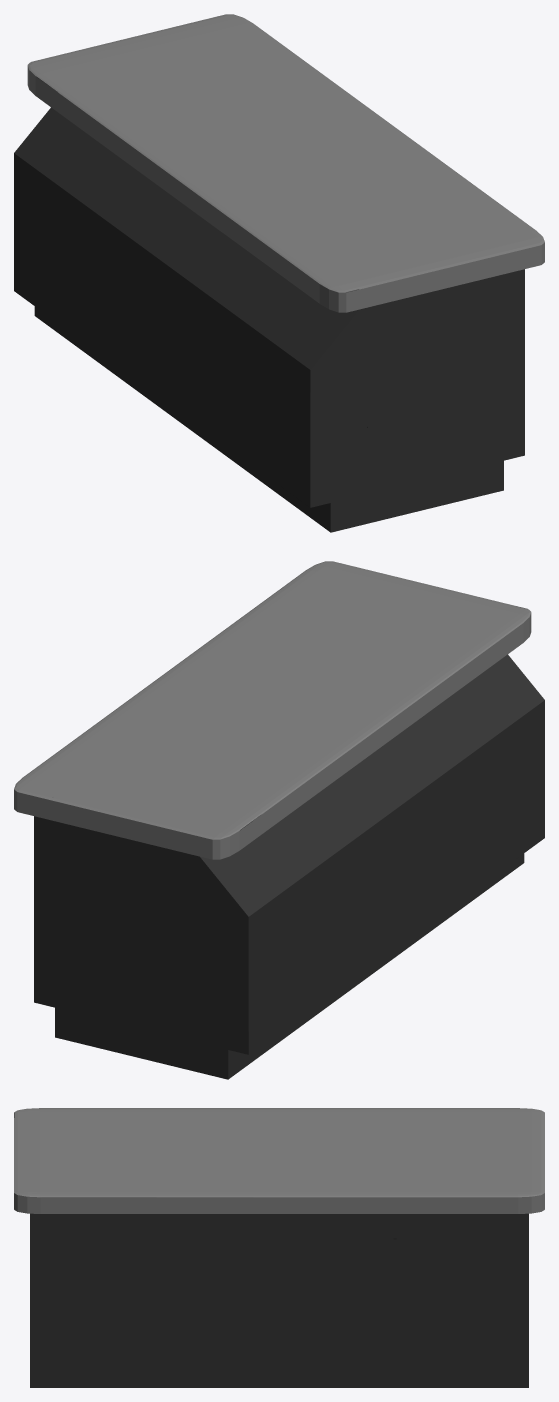
The model's file is desk.obj.
3 views of the same model, one above another, from view 1: azimuth 30°, elevation 25°; view 2: azimuth 150°, elevation 25°; view 3: azimuth 270°, elevation 25° (orthographic). The views are drawn at different scales.
Parts seen in each view (by area): view 1: Cube; view 2: Cube; view 3: Cube.
Boxes of the visible parts, box(x1,y1,x2,y2) form: Cube: box(14, 14, 544, 532); Cube: box(14, 561, 544, 1079); Cube: box(14, 1108, 544, 1387).
Size of the model in its own units: 3.4 by 3.44 by 7.98.
Materials: 1 (1 with a texture image).
